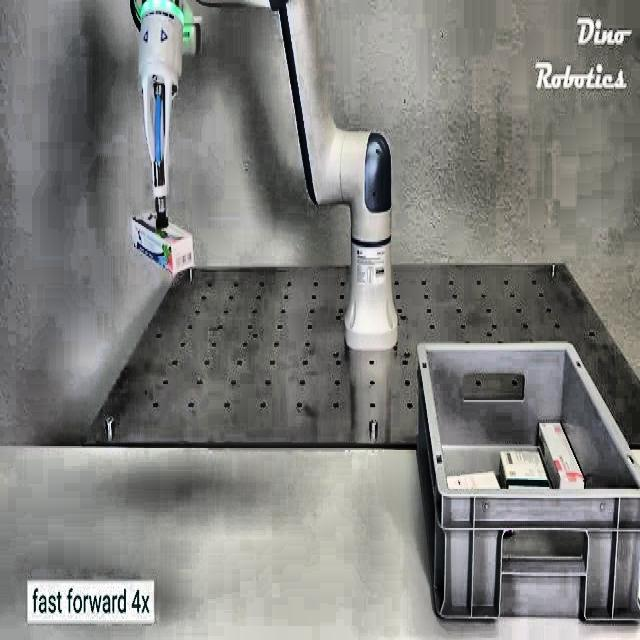robot: (128, 0, 398, 352)
